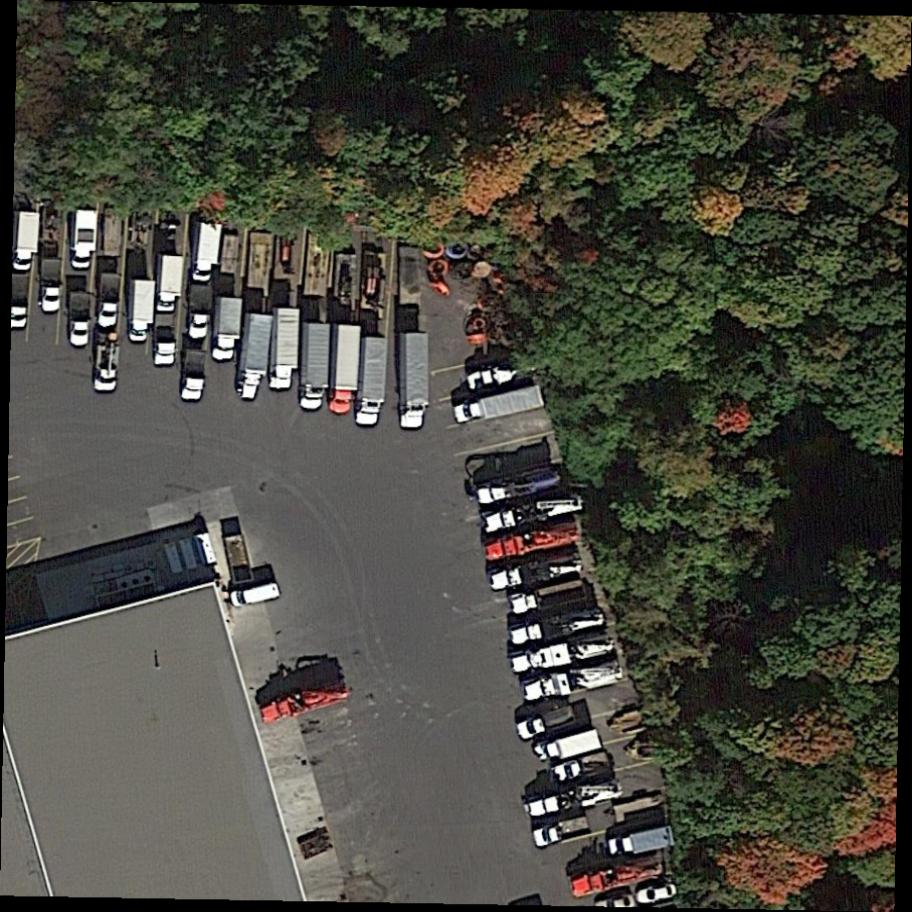large-vehicle: (481, 488, 585, 538), (507, 630, 616, 677), (450, 382, 550, 433), (519, 659, 626, 705), (567, 854, 667, 902), (523, 777, 629, 821), (482, 521, 581, 567), (485, 551, 585, 596), (256, 680, 350, 727), (473, 461, 563, 509), (507, 604, 606, 646), (352, 335, 390, 427), (327, 322, 362, 416), (236, 312, 272, 402), (511, 579, 589, 618), (398, 335, 430, 429), (270, 308, 301, 392), (208, 297, 243, 368), (303, 324, 331, 412), (608, 826, 676, 860), (552, 750, 612, 788), (532, 816, 593, 852), (517, 706, 577, 742), (191, 222, 222, 284), (13, 211, 40, 274), (129, 279, 155, 343), (156, 254, 184, 313), (70, 209, 97, 270)
ship: (604, 707, 651, 740), (625, 739, 663, 761)
small-vehicle: (532, 726, 607, 767), (178, 347, 209, 405), (151, 310, 181, 369), (35, 254, 65, 313), (92, 272, 121, 330), (229, 580, 284, 610), (64, 289, 92, 347), (186, 283, 214, 339), (92, 344, 122, 395), (634, 881, 681, 905)
